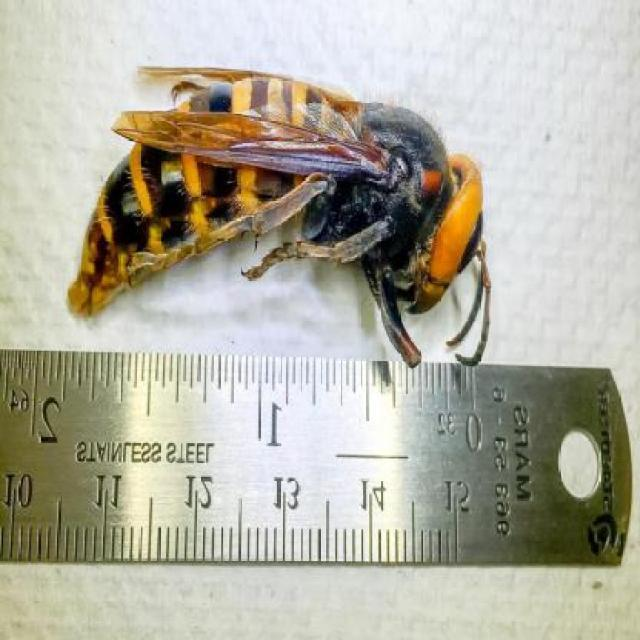Wasp: (64, 35, 506, 375)
